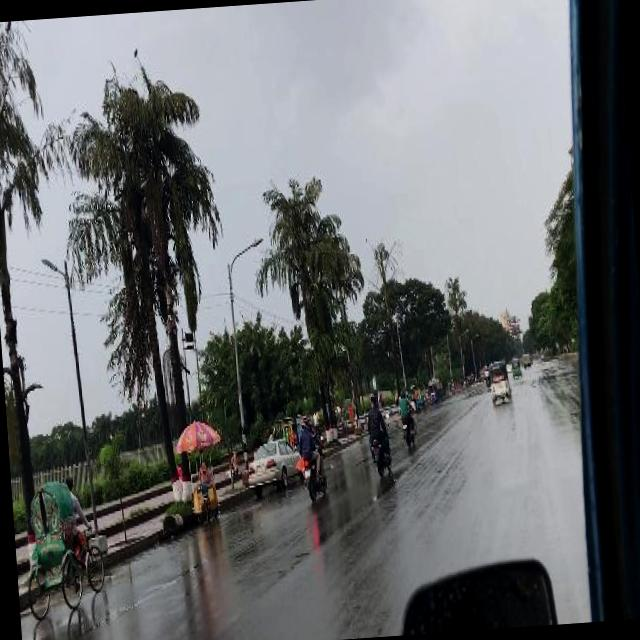car: (244, 435, 302, 493), (504, 360, 510, 370)
motorcycle: (18, 475, 107, 620), (296, 409, 328, 501), (361, 388, 392, 478), (392, 383, 417, 450), (486, 357, 511, 404), (508, 354, 522, 378), (481, 364, 488, 386)
truck: (520, 350, 530, 369)
